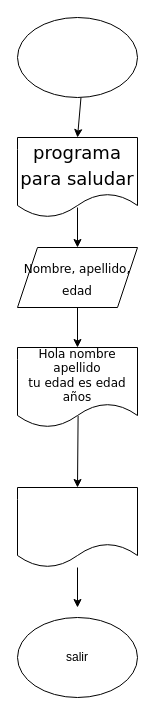
The diagram is 155 pixels wide and 715 high, and some of its shapes have lost their labels. Here are the shapes that lost their labels. From the top down, the centre of each, then its label:
(x=77, y=57): inicio
(x=77, y=527): tu edad duplicada es edad*2
